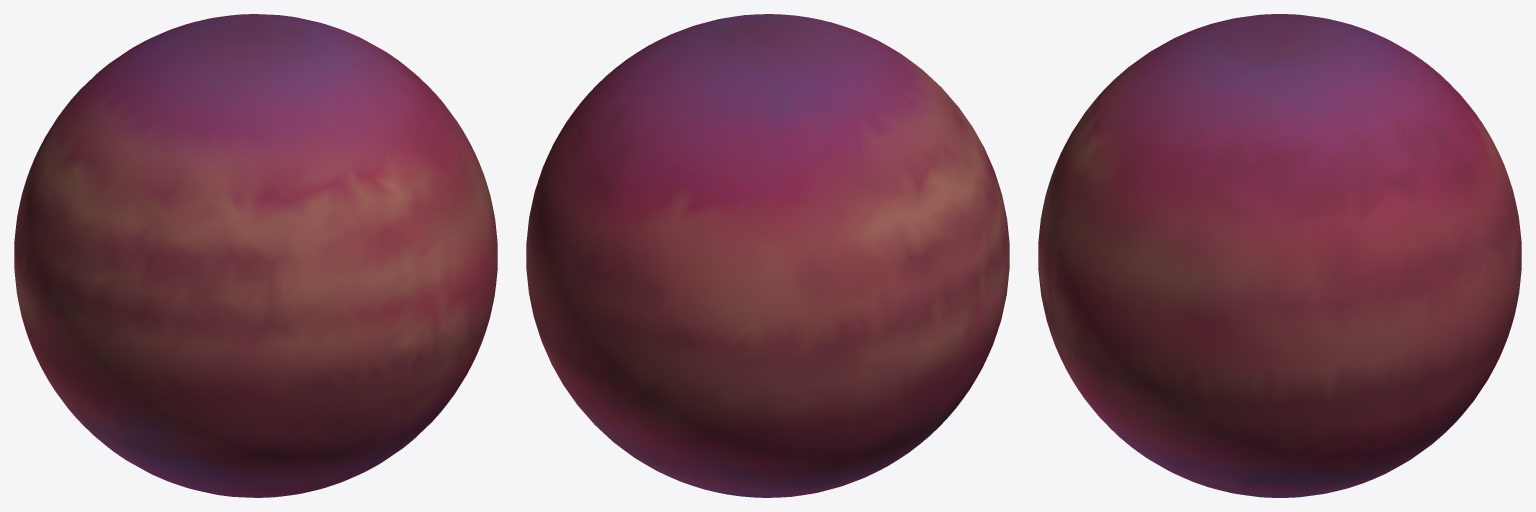
The model's file is planet_gas_giant.fbx.
3 renders of one model, left to right at view 1: azimuth 30°, elevation 25°; view 2: azimuth 150°, elevation 25°; view 3: azimuth 270°, elevation 25°, orthographic.
Visible parts, largest first — view 1: planet_gas_giant; view 2: planet_gas_giant; view 3: planet_gas_giant.
Boxes of the visible parts, x1,y1,x2,y2 form: planet_gas_giant: [14, 14, 497, 497]; planet_gas_giant: [526, 14, 1009, 497]; planet_gas_giant: [1038, 14, 1521, 497].
Bounding box in the file's own units: 184 × 184 × 184.
